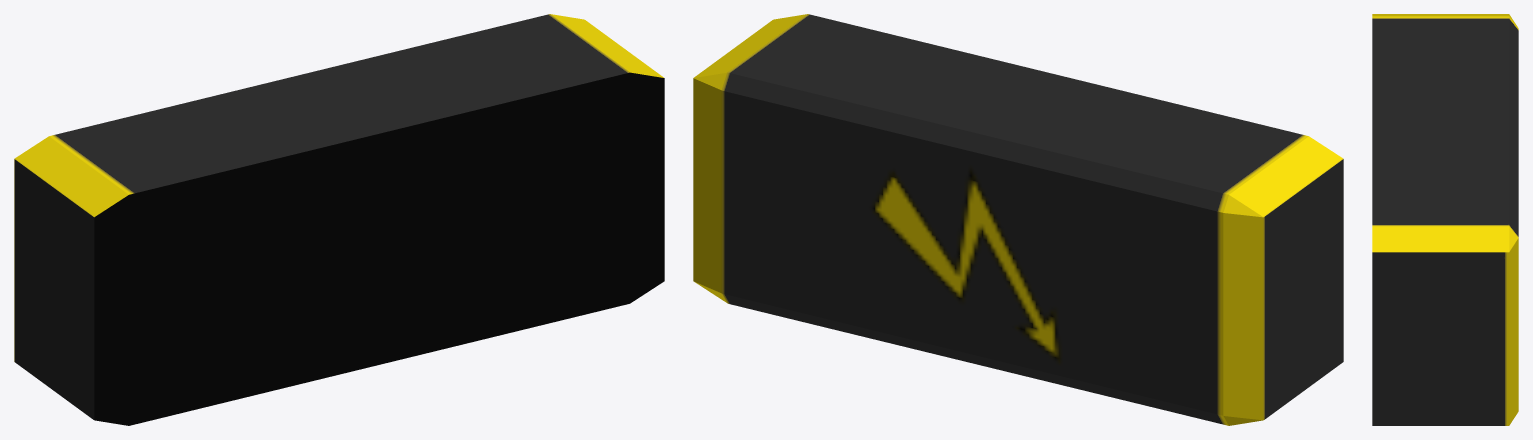
Rendered from battery.fbx.
The picture shows the model from 3 angles, left to right: view 1: azimuth 30°, elevation 25°; view 2: azimuth 150°, elevation 25°; view 3: azimuth 270°, elevation 25°; orthographic projection. The views are drawn at different scales.
Parts seen in each view (by area): view 1: battery; view 2: battery; view 3: battery.
Boxes of the visible parts, left/top/right/bottom form: battery: left=14, top=14, right=664, bottom=425; battery: left=693, top=14, right=1343, bottom=425; battery: left=1372, top=14, right=1518, bottom=425.
Size of the model in its own units: 0.6097 by 0.2361 by 0.1583.
Materials: 1 (1 with a texture image).
